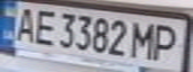2: (106, 16, 133, 58)
3: (54, 10, 78, 51), (72, 12, 93, 52)
8: (90, 15, 112, 55)
A: (9, 3, 39, 43)
E: (30, 7, 60, 46)
M: (127, 19, 160, 61)
P: (148, 20, 184, 63)
